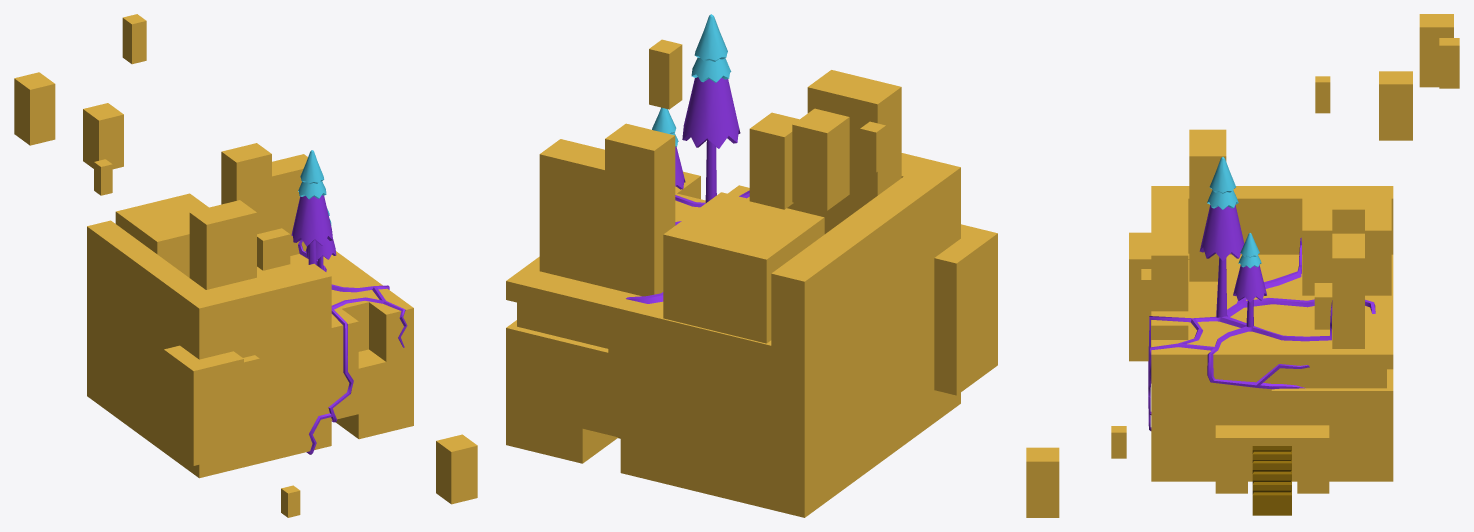
Rendered from Tech_Planet_Gold_Block.fbx.
3 views of the same model, side by side, from view 1: azimuth 30°, elevation 25°; view 2: azimuth 150°, elevation 25°; view 3: azimuth 270°, elevation 25° (orthographic). The views are drawn at different scales.
Visible parts, largest first — view 1: Planet_GoldBlocky_Mesh; view 2: Planet_GoldBlocky_Mesh; view 3: Planet_GoldBlocky_Mesh.
Part boxes in pixels (x1=…): Planet_GoldBlocky_Mesh: x1=14, y1=14, x2=477, y2=517; Planet_GoldBlocky_Mesh: x1=506, y1=14, x2=997, y2=517; Planet_GoldBlocky_Mesh: x1=1026, y1=14, x2=1459, y2=517.
Bounding box in the file's own units: 5.77 × 7.45 × 7.09.
